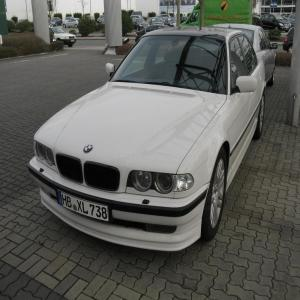Vehicle-registration-plate: (59, 192, 110, 221)
